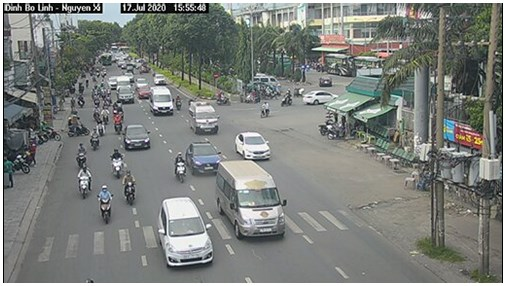xe_hoi: (155, 196, 213, 268), (235, 127, 272, 162), (185, 141, 219, 176), (122, 123, 150, 150), (115, 83, 136, 105)
xe_khach: (214, 160, 288, 239), (150, 86, 174, 118)
xe_may: (96, 184, 115, 224), (75, 162, 92, 198), (108, 146, 126, 180), (64, 114, 90, 137), (122, 169, 138, 206), (173, 150, 187, 182), (75, 142, 89, 167), (112, 112, 125, 137), (90, 125, 99, 150), (260, 100, 271, 120), (91, 104, 102, 123), (174, 94, 183, 112), (101, 106, 108, 125)
